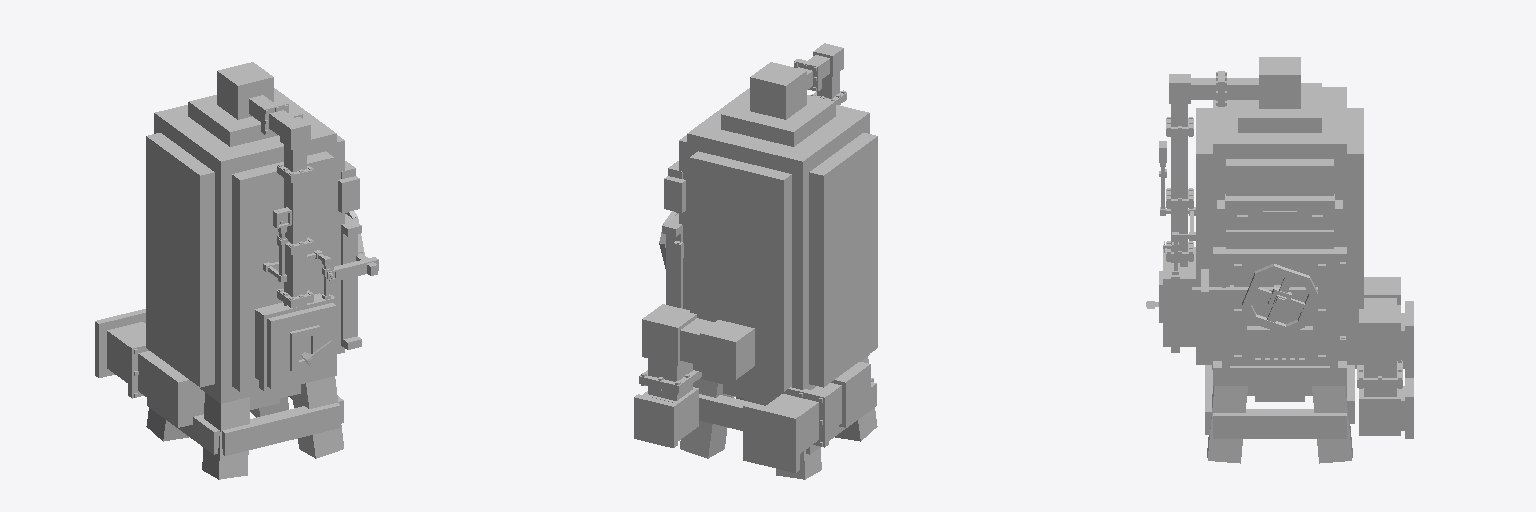
Rendered from solid_boiler.obj.
3 renders of one model, left to right at view 1: azimuth 30°, elevation 25°; view 2: azimuth 150°, elevation 25°; view 3: azimuth 270°, elevation 25°, orthographic.
Parts seen in each view (by area): view 1: Cylindre2-5, Cylindre5-5, Cylindre-M, Block, Block2, SteamBlock, LegPlate1, Block9, T1, Block11, Leg3, Cylindre4-5 (+8 smaller); view 2: Cylindre3-5, Cylindre2-5, Cylindre-M, Block11, Block9, Block, Cylindre4-5, Block8, Leg1, Block10, LegPlate3, Cylindre1-5 (+5 smaller); view 3: Block, Cylindre-M, Block11, Cylindre1-5, Porte, Cylindre3-5, Cylindre5-5, LegPlate4, Block2, 0000, Cylindre4-5, T1 (+10 smaller).
Part boxes in pixels (bbox=[...]): Cylindre2-5: bbox=[146, 133, 214, 387]; Cylindre5-5: bbox=[232, 151, 333, 391]; Cylindre-M: bbox=[154, 88, 336, 403]; Block: bbox=[217, 62, 378, 349]; Block2: bbox=[259, 101, 336, 390]; SteamBlock: bbox=[255, 293, 336, 389]; LegPlate1: bbox=[222, 403, 340, 455]; Block9: bbox=[95, 309, 176, 401]; T1: bbox=[284, 145, 306, 307]; Block11: bbox=[153, 362, 279, 427]; Leg3: bbox=[202, 393, 249, 479]; Cylindre4-5: bbox=[188, 94, 302, 146]; Cylindre3-5: bbox=[690, 151, 791, 391]; Cylindre2-5: bbox=[809, 133, 877, 387]; Cylindre-M: bbox=[687, 88, 869, 396]; Block11: bbox=[642, 304, 870, 440]; Block9: bbox=[634, 364, 855, 472]; Block: bbox=[662, 62, 806, 308]; Cylindre4-5: bbox=[721, 94, 835, 146]; Block8: bbox=[648, 318, 714, 400]; Leg1: bbox=[680, 379, 731, 458]; Block10: bbox=[639, 370, 828, 447]; LegPlate3: bbox=[699, 394, 764, 430]; Cylindre1-5: bbox=[679, 135, 686, 309]; Block: bbox=[1192, 57, 1346, 375]; Cylindre-M: bbox=[1213, 87, 1346, 385]; Block11: bbox=[1255, 277, 1400, 435]; Cylindre1-5: bbox=[1226, 159, 1333, 377]; Porte: bbox=[1230, 262, 1329, 365]; Cylindre3-5: bbox=[1347, 108, 1363, 364]; Cylindre5-5: bbox=[1196, 108, 1212, 364]; LegPlate4: bbox=[1213, 409, 1346, 438]; Block2: bbox=[1146, 71, 1226, 352]; 0000: bbox=[1242, 264, 1317, 334]; Cylindre4-5: bbox=[1238, 83, 1321, 132]; T1: bbox=[1171, 104, 1187, 266].
Bounding box in the file's own units: 1.63 × 3.05 × 2.